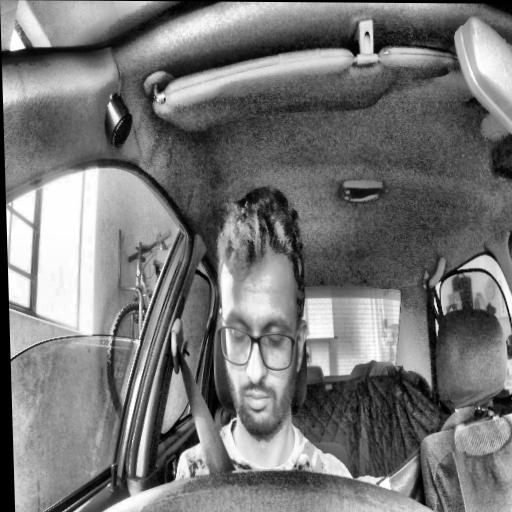drowsy: (215, 186, 311, 438)
